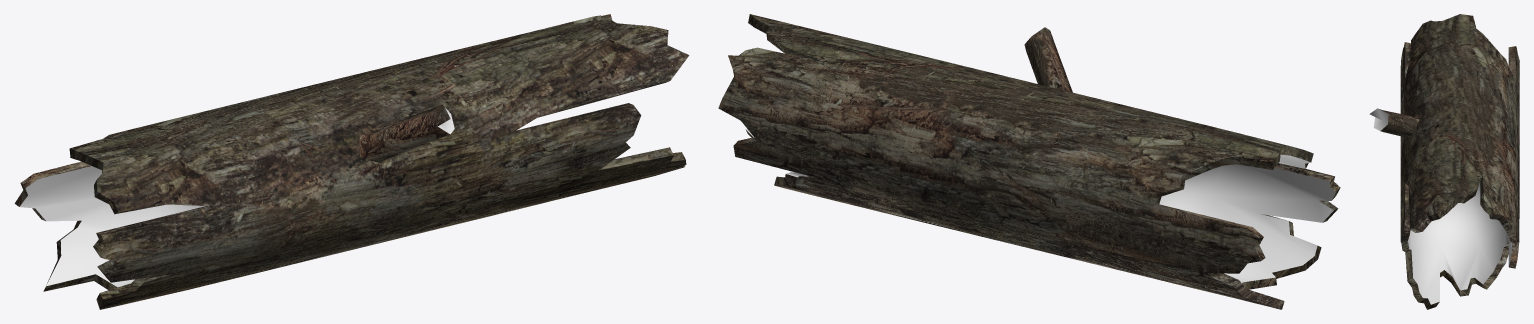
The model's file is trunks3.fbx.
The picture shows the model from 3 angles, left to right: view 1: azimuth 30°, elevation 25°; view 2: azimuth 150°, elevation 25°; view 3: azimuth 270°, elevation 25°; orthographic projection. The views are drawn at different scales.
Visible parts, largest first — view 1: polySurface43; view 2: polySurface43; view 3: polySurface43.
Part boxes in pixels (x1,y1,x2,y2): polySurface43: (14,14,689,309); polySurface43: (718,14,1340,309); polySurface43: (1369,14,1519,309).
Size of the model in its own units: 33.84 by 9 by 10.43.
Materials: 2 (1 with a texture image).
